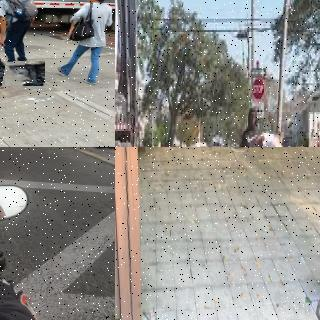Garbage: (5, 61, 45, 86), (256, 129, 288, 147), (0, 53, 13, 87)
